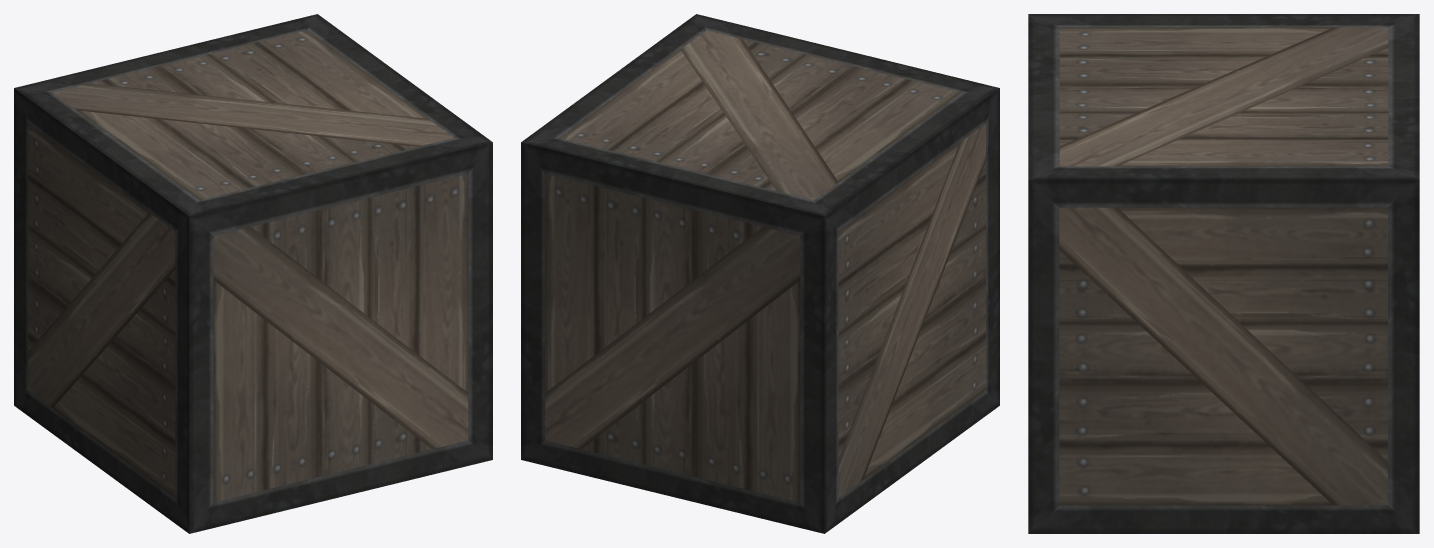
Rendered from Crate_B.fbx.
3 renders of one model, left to right at view 1: azimuth 30°, elevation 25°; view 2: azimuth 150°, elevation 25°; view 3: azimuth 270°, elevation 25°, orthographic. The views are drawn at different scales.
Parts seen in each view (by area): view 1: Crate_B; view 2: Crate_B; view 3: Crate_B.
Boxes of the visible parts, x1,y1,x2,y2 form: Crate_B: [14, 14, 492, 533]; Crate_B: [521, 14, 999, 533]; Crate_B: [1028, 14, 1419, 533].
Bounding box in the file's own units: 1 × 1 × 1.
